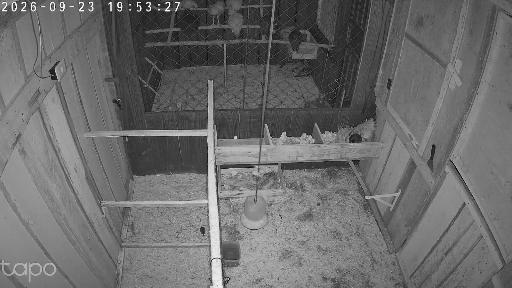frango: (259, 171, 275, 189), (292, 68, 312, 78), (282, 61, 294, 73), (295, 60, 309, 67)
galinha: (345, 118, 375, 143), (228, 12, 243, 35), (259, 8, 271, 36), (289, 26, 302, 51), (178, 0, 200, 11), (225, 0, 243, 13), (279, 26, 293, 40)
galo: (207, 0, 224, 27)
rato: (198, 218, 207, 237)
